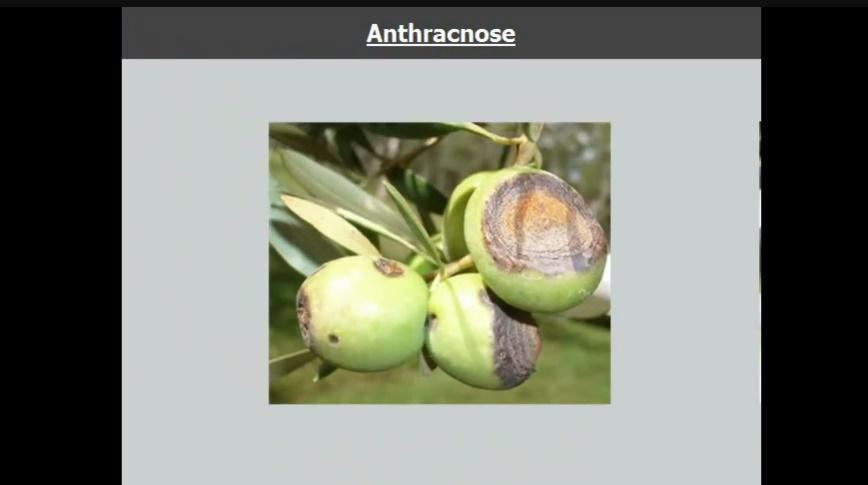Anthracnose: (479, 168, 608, 278), (477, 290, 546, 389), (293, 282, 318, 350), (367, 252, 408, 282)
